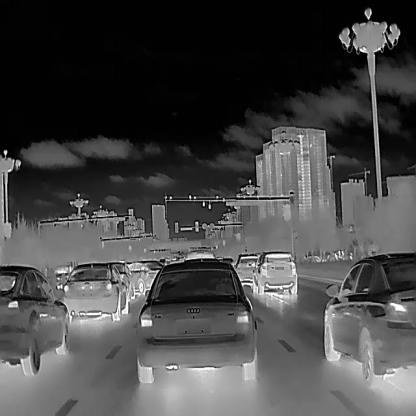car: (136, 257, 258, 384), (322, 250, 416, 385), (0, 262, 69, 376), (61, 262, 129, 322), (253, 249, 297, 295), (128, 260, 163, 294), (107, 260, 133, 301), (234, 252, 261, 286)
